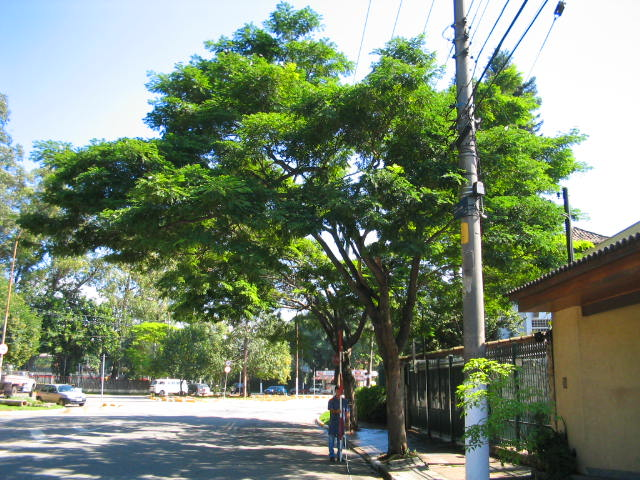crown: (21, 1, 595, 329)
stem: (372, 364, 427, 460)
stick: (329, 329, 354, 463)
tree: (19, 1, 596, 461)
